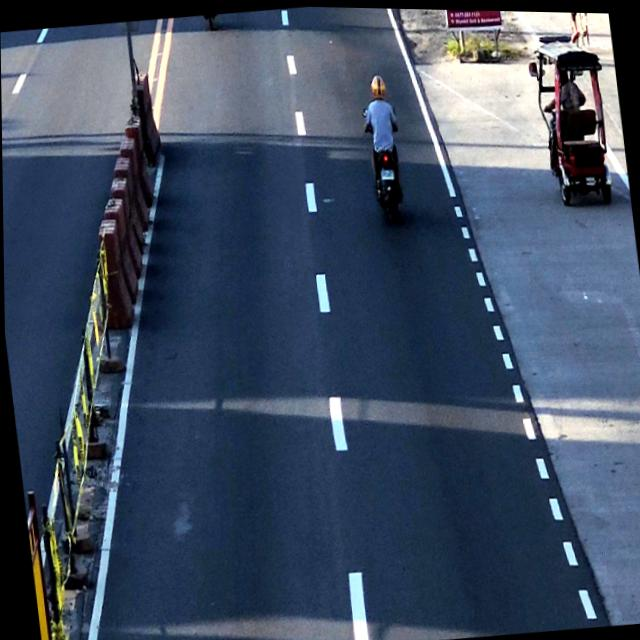Motorcycle: (354, 68, 409, 218)
